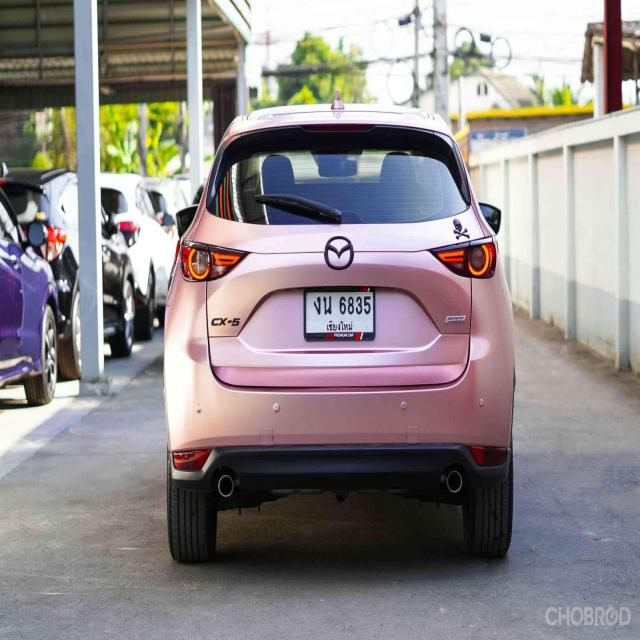license_plate: (302, 280, 377, 350)
